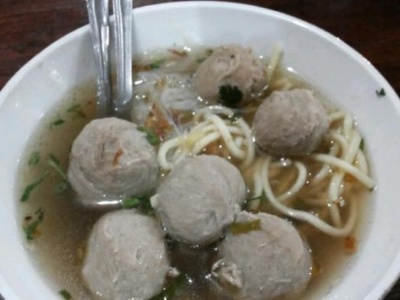bakso: (70, 79, 324, 288)
